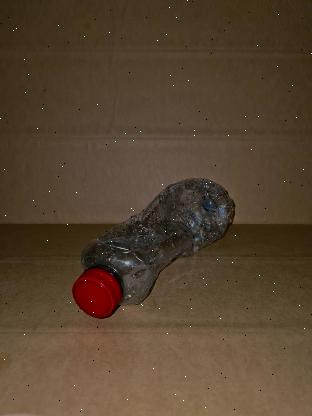Plastic Bottle: (72, 179, 235, 318)
